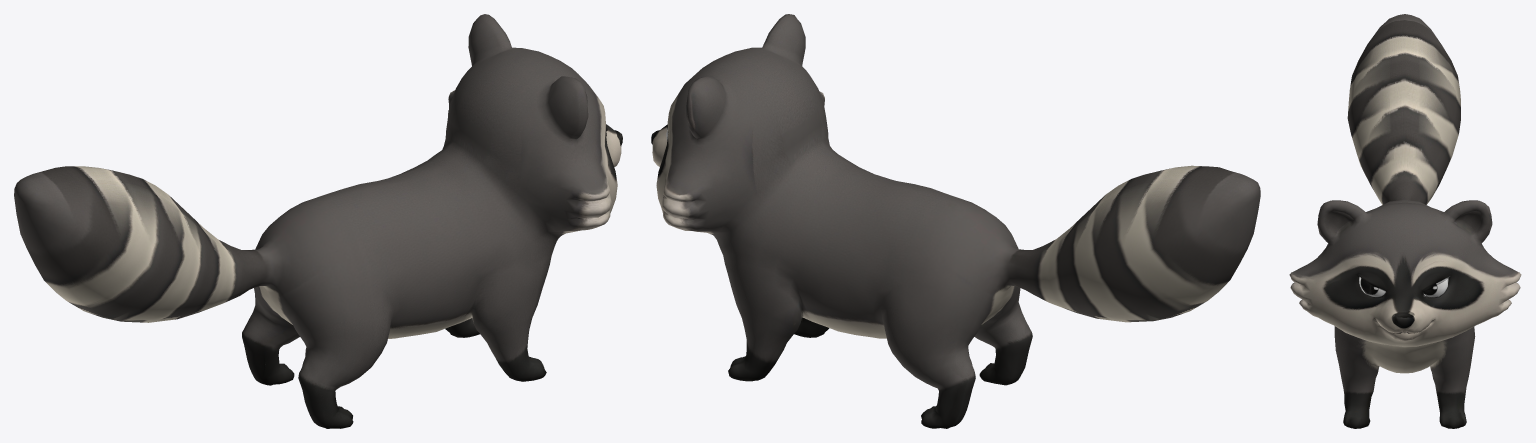
Rendered from raccoon_quad.glb.
3 renders of one model, left to right at view 1: azimuth 30°, elevation 25°; view 2: azimuth 150°, elevation 25°; view 3: azimuth 270°, elevation 25°, orthographic. The views are drawn at different scales.
Parts seen in each view (by area): view 1: tripo_node_52114eb7-4e08-47b7-b356-5a1bcd1127cb; view 2: tripo_node_52114eb7-4e08-47b7-b356-5a1bcd1127cb; view 3: tripo_node_52114eb7-4e08-47b7-b356-5a1bcd1127cb.
Boxes of the visible parts, <box> form: tripo_node_52114eb7-4e08-47b7-b356-5a1bcd1127cb: <box>14,14,622,428</box>; tripo_node_52114eb7-4e08-47b7-b356-5a1bcd1127cb: <box>651,14,1260,428</box>; tripo_node_52114eb7-4e08-47b7-b356-5a1bcd1127cb: <box>1289,14,1521,428</box>.
Bounding box in the file's own units: 0.998 × 0.4746 × 0.4199.
Materials: 1 (1 with a texture image).
